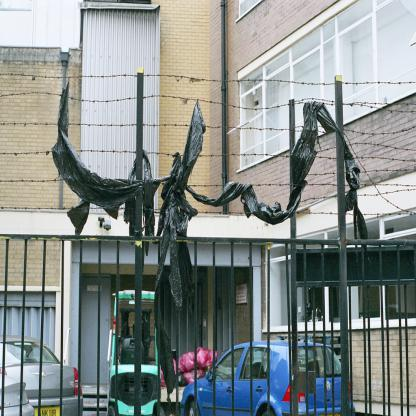Car: (178, 340, 354, 416), (0, 332, 84, 416), (0, 366, 34, 416)
